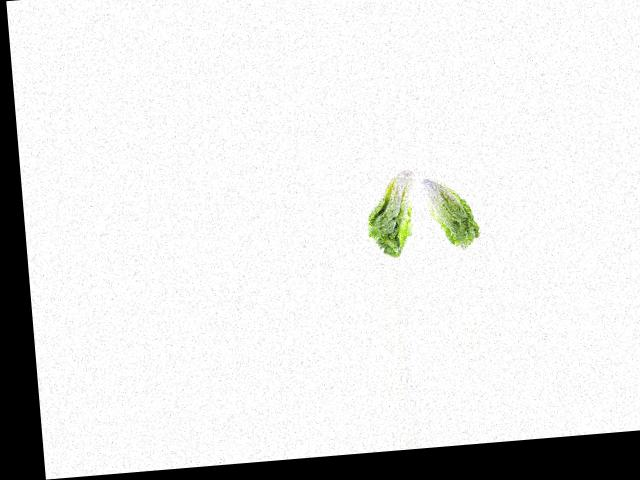lettuce: (419, 165, 482, 251)
